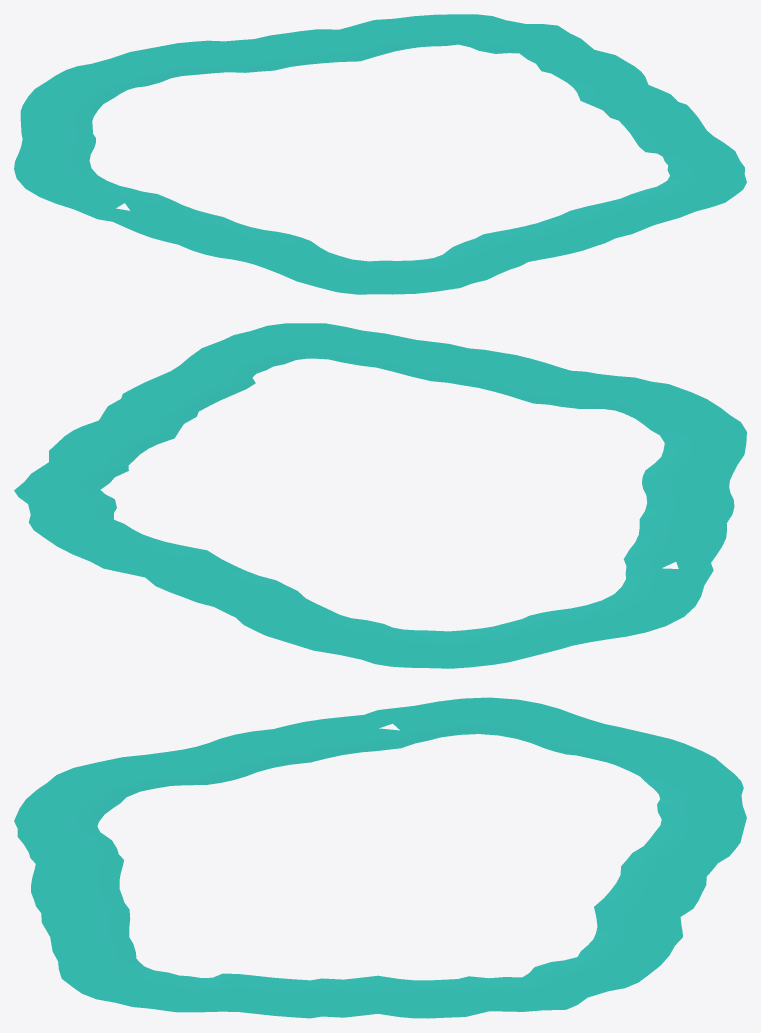
The model's file is cluster2-1.fbx.
The picture shows the model from 3 angles, top to bottom: view 1: azimuth 30°, elevation 25°; view 2: azimuth 150°, elevation 25°; view 3: azimuth 270°, elevation 25°; orthographic projection. The views are drawn at different scales.
Parts seen in each view (by area): view 1: cluster2-1; view 2: cluster2-1; view 3: cluster2-1.
Part boxes in pixels (x1,y1,x2,y2): cluster2-1: (14,14,746,294); cluster2-1: (14,323,746,668); cluster2-1: (14,697,746,1018).
Bounding box in the file's own units: 1784149 × 1564 × 1721629.
